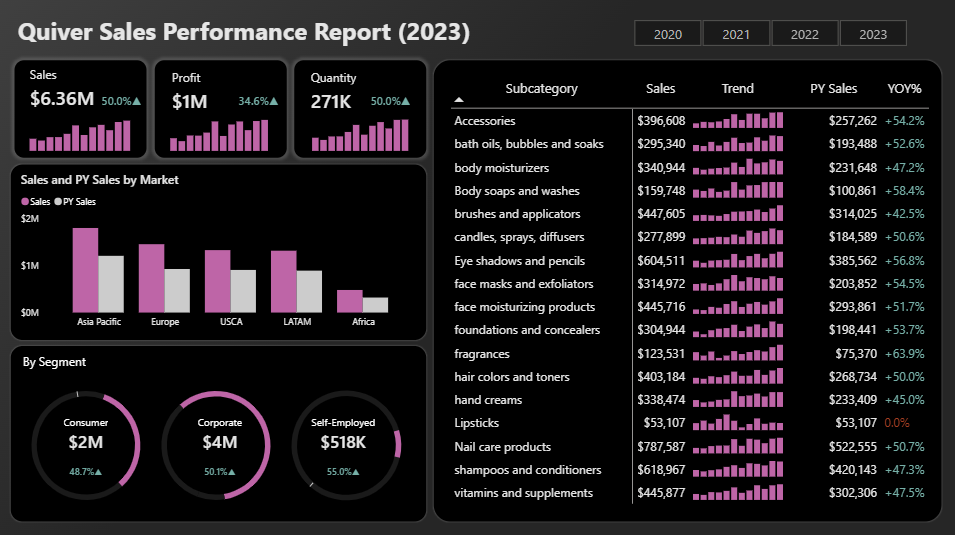

Layout of this report page (visuals, bound fields, positions):
{"tool":"powerbi","page":{"name":"Page 1","canvas":[1280,720],"ordinal":0},"visuals":[{"type":"cardVisual","fields":{"Data":["MeasuresTable.Sales"]},"box":[25,71.7,121.7,96.7],"z":0},{"type":"cardVisual","fields":{"Data":["MeasuresTable.Profit"]},"box":[215,76.7,121.7,85],"z":1000},{"type":"cardVisual","fields":{"Data":["MeasuresTable.Quantity"]},"box":[400,76.7,120,85],"z":2000},{"type":"card","fields":{"Values":["MeasuresTable.% YOY Sales"]},"box":[118.3,118.3,91.7,41.7],"z":3000},{"type":"card","fields":{"Values":["MeasuresTable.% YOY Profit"]},"box":[296.7,118.3,100,41.7],"z":4000},{"type":"card","fields":{"Values":["MeasuresTable.% YOY Quantity"]},"box":[473.3,118.3,100,41.7],"z":5000},{"type":"slicer","fields":{"Values":["DateTable.Year"]},"box":[822.7,22.7,413.3,48],"z":6000},{"type":"clusteredColumnChart","fields":{"Y":["MeasuresTable.Sales"],"Category":["DateTable.Monthnumber"]},"box":[24.7,139.7,193.2,69.9],"z":7000},{"type":"clusteredColumnChart","fields":{"Category":["DateTable.Monthnumber"],"Y":["MeasuresTable.Profit"]},"box":[212.3,139.7,187.7,69.9],"z":8000},{"type":"clusteredColumnChart","fields":{"Category":["DateTable.Monthnumber"],"Y":["MeasuresTable.Quantity"]},"box":[401.4,139.7,184.9,69.9],"z":9000},{"type":"clusteredColumnChart","fields":{"Category":["E_Commerce Sales data.Market"],"Y":["MeasuresTable.Sales","MeasuresTable.PY Sales"]},"box":[25,230,537.5,218.8],"z":10000},{"type":"donutChart","fields":{"Y":["MeasuresTable.Sales"],"Series":["E_Commerce Sales data.Segment"]},"box":[21.9,498.6,191.8,195.9],"z":11000},{"type":"donutChart","fields":{"Y":["MeasuresTable.Sales"],"Series":["E_Commerce Sales data.Segment"]},"box":[195.2,498.6,191.8,195.9],"z":12000},{"type":"donutChart","fields":{"Y":["MeasuresTable.Sales"],"Series":["E_Commerce Sales data.Segment"]},"box":[368.5,498.6,193.2,195.9],"z":13000},{"type":"cardVisual","fields":{"Data":["MeasuresTable.Sales"]},"box":[38.4,537,157.5,120.5],"z":14000},{"type":"cardVisual","fields":{"Data":["MeasuresTable.Sales"]},"box":[217.8,537,157.5,120.5],"z":15000},{"type":"cardVisual","fields":{"Data":["MeasuresTable.Sales"]},"box":[380.8,537,158.9,120.5],"z":16000},{"type":"textbox","box":[28.3,468.3,136.7,46.7],"z":17000},{"type":"pivotTable","fields":{"Rows":["E_Commerce Sales data.Subcategory"],"Values":["MeasuresTable.Sales","SparklineData(MeasuresTable.Sales_[DateTable.Monthnumber])","MeasuresTable.PY Sales","MeasuresTable.YOY%"]},"box":[598.3,96.7,651.7,588.3],"z":18000},{"type":"textbox","box":[21.3,16,684,61.3],"z":19000}]}

Visuals, with their boxes in screenshot pixels (x1, y1, x2, y2), scaled from the page's 1280x720 canvas onto the 955x535 screenshot:
cardVisual - MeasuresTable.Sales: x1=19, y1=53, x2=109, y2=125
cardVisual - MeasuresTable.Profit: x1=160, y1=57, x2=251, y2=120
cardVisual - MeasuresTable.Quantity: x1=298, y1=57, x2=388, y2=120
card - MeasuresTable.% YOY Sales: x1=88, y1=88, x2=157, y2=119
card - MeasuresTable.% YOY Profit: x1=221, y1=88, x2=296, y2=119
card - MeasuresTable.% YOY Quantity: x1=353, y1=88, x2=428, y2=119
slicer - DateTable.Year: x1=614, y1=17, x2=922, y2=53
clusteredColumnChart - MeasuresTable.Sales x DateTable.Monthnumber: x1=18, y1=104, x2=163, y2=156
clusteredColumnChart - DateTable.Monthnumber x MeasuresTable.Profit: x1=158, y1=104, x2=298, y2=156
clusteredColumnChart - DateTable.Monthnumber x MeasuresTable.Quantity: x1=299, y1=104, x2=437, y2=156
clusteredColumnChart - E_Commerce Sales data.Market x MeasuresTable.Sales: x1=19, y1=171, x2=420, y2=333
donutChart - MeasuresTable.Sales x E_Commerce Sales data.Segment: x1=16, y1=370, x2=159, y2=516
donutChart - MeasuresTable.Sales x E_Commerce Sales data.Segment: x1=146, y1=370, x2=289, y2=516
donutChart - MeasuresTable.Sales x E_Commerce Sales data.Segment: x1=275, y1=370, x2=419, y2=516
cardVisual - MeasuresTable.Sales: x1=29, y1=399, x2=146, y2=489
cardVisual - MeasuresTable.Sales: x1=162, y1=399, x2=280, y2=489
cardVisual - MeasuresTable.Sales: x1=284, y1=399, x2=403, y2=489
textbox: x1=21, y1=348, x2=123, y2=383
pivotTable - E_Commerce Sales data.Subcategory x MeasuresTable.Sales: x1=446, y1=72, x2=933, y2=509
textbox: x1=16, y1=12, x2=526, y2=57
